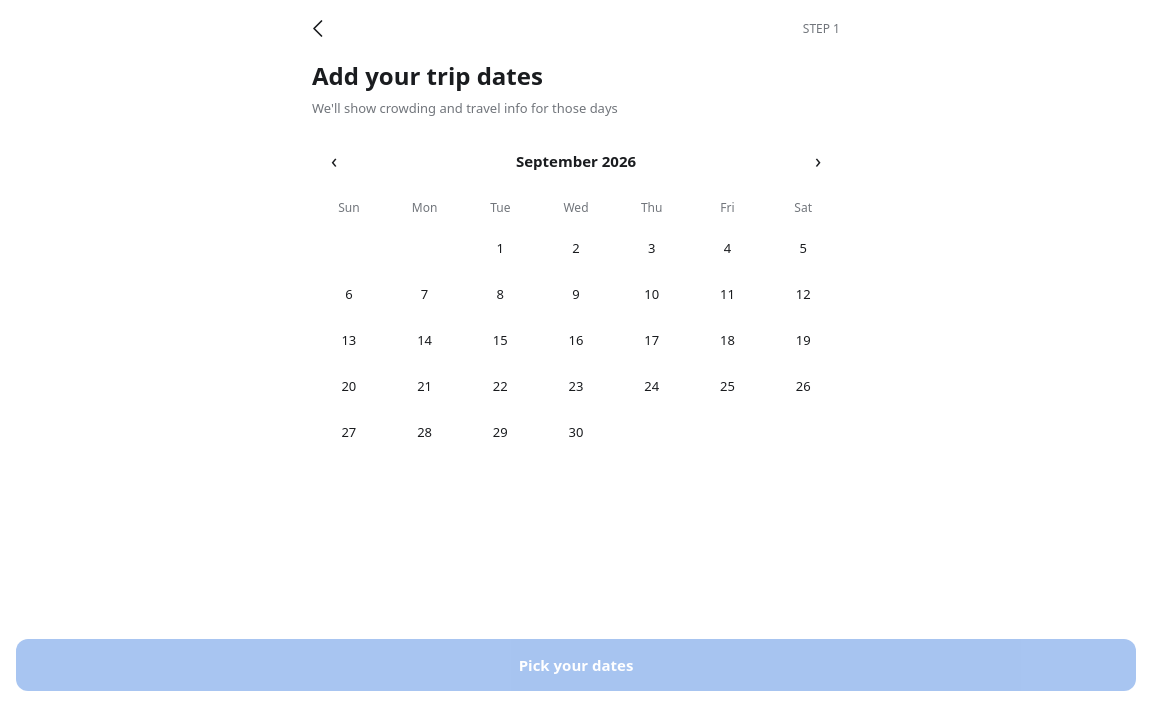
searching for a place keeps the query out of every URL › does not search on an empty field
The image size is (1152, 720).
Click the button "15" at [500, 340], box [463,318,537,362]
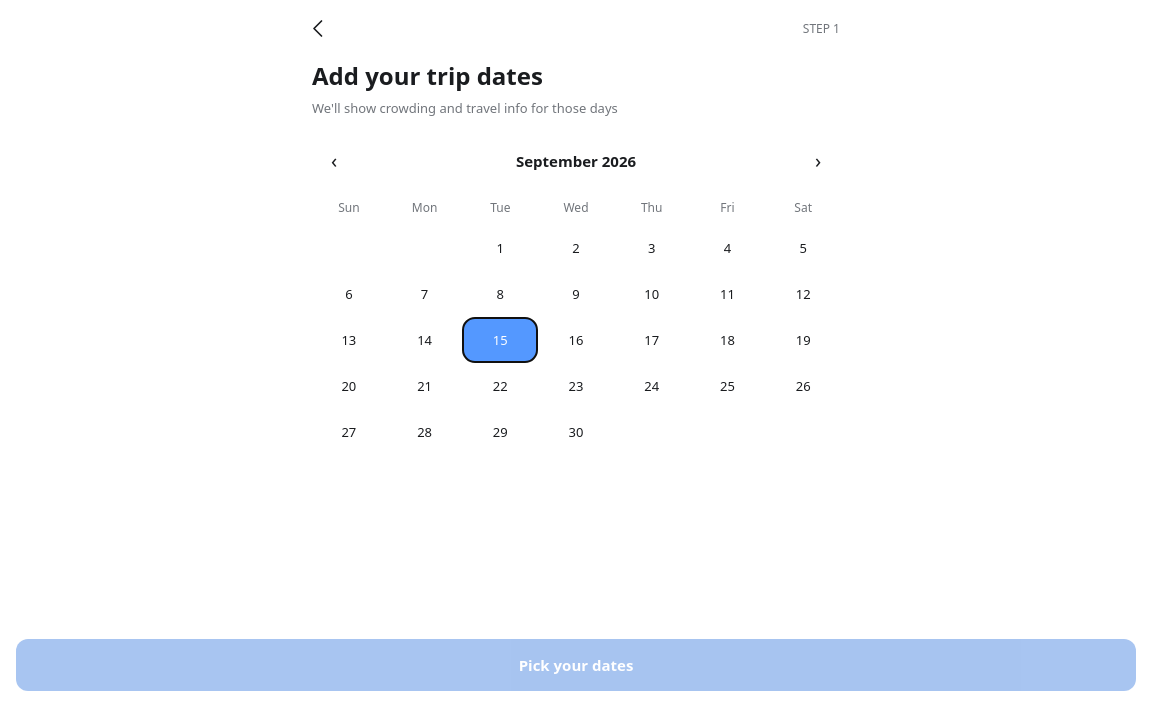
Click the button "15" at [500, 340], box [463,318,537,362]
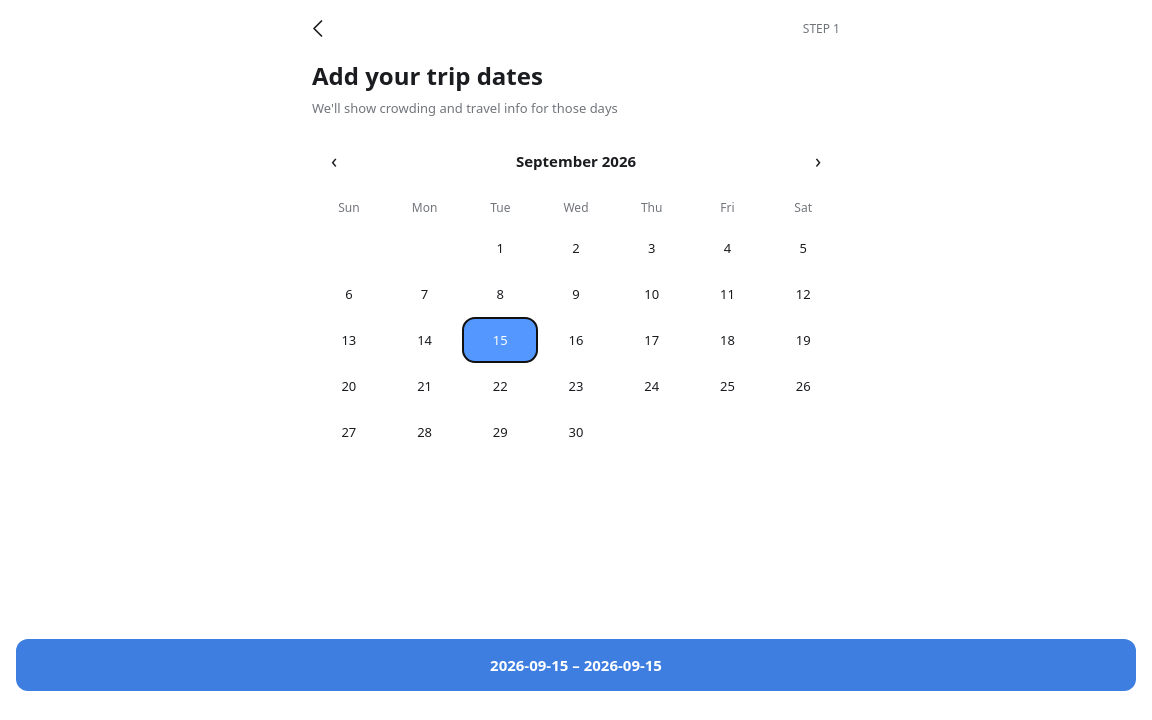
Click the button "2026-09-15 – 2026-09-15" at [576, 665], box [16,639,1136,691]
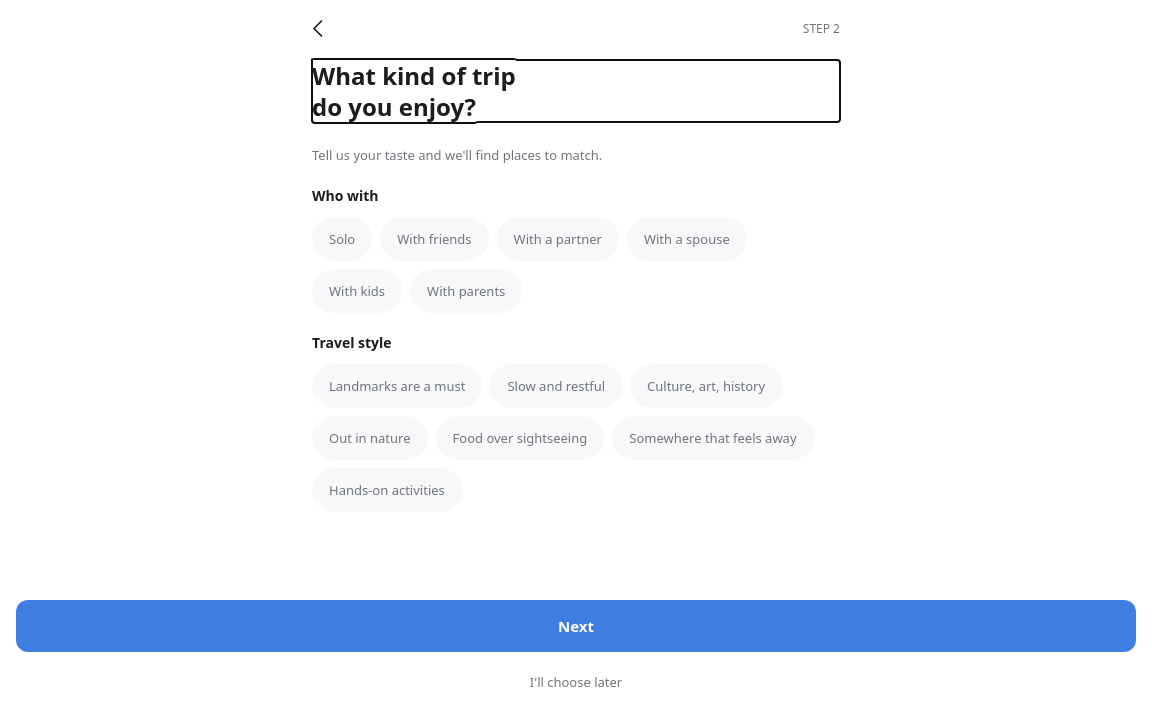
Click the button "Next" at [576, 626], box [16,600,1136,652]
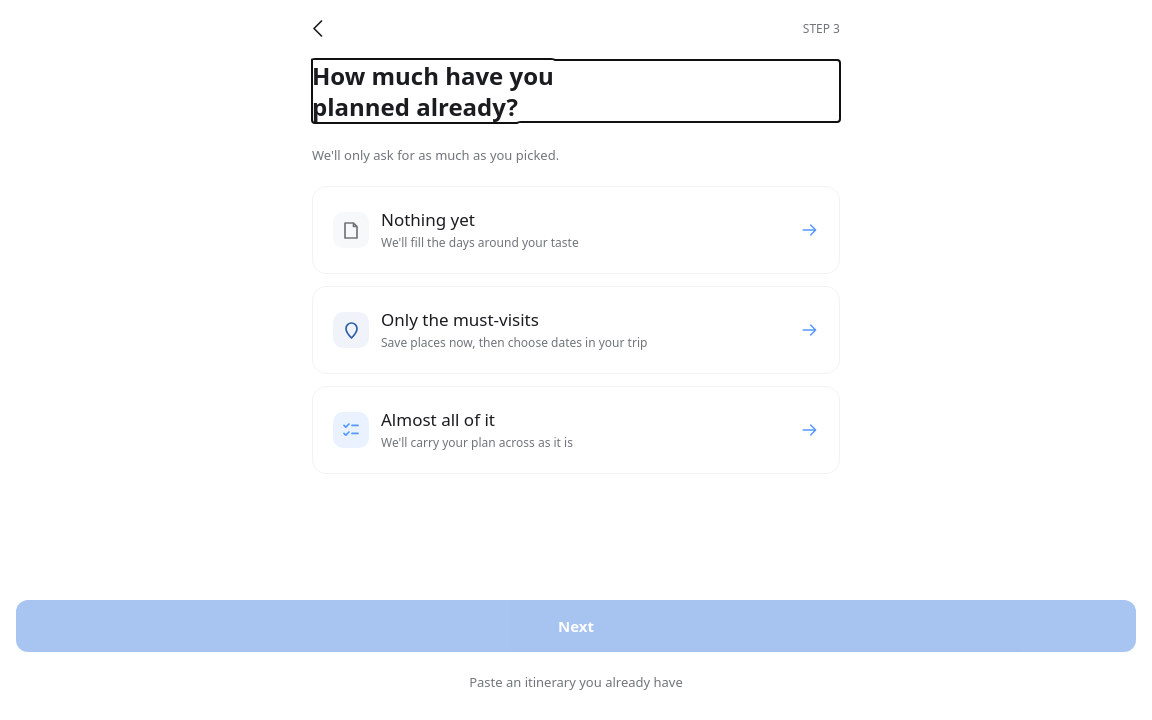
Click the button "Only the must-visits" at [351, 330], box [312,286,840,374]
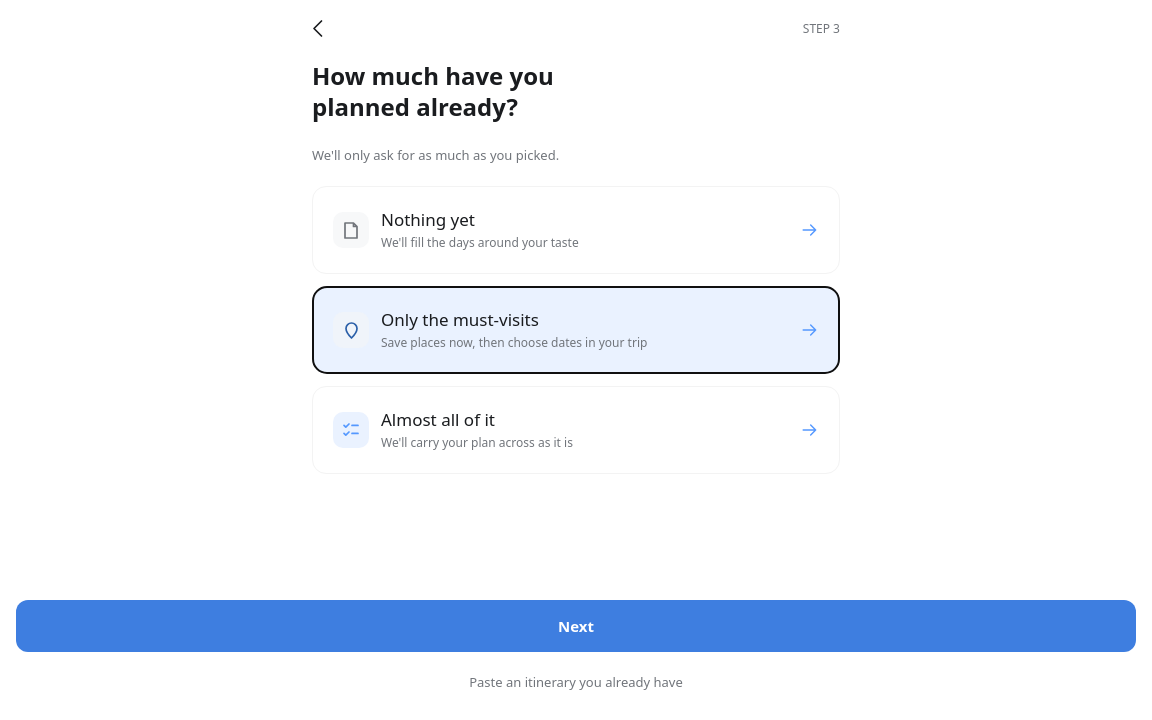
Click the button "Next" at [576, 626], box [16,600,1136,652]
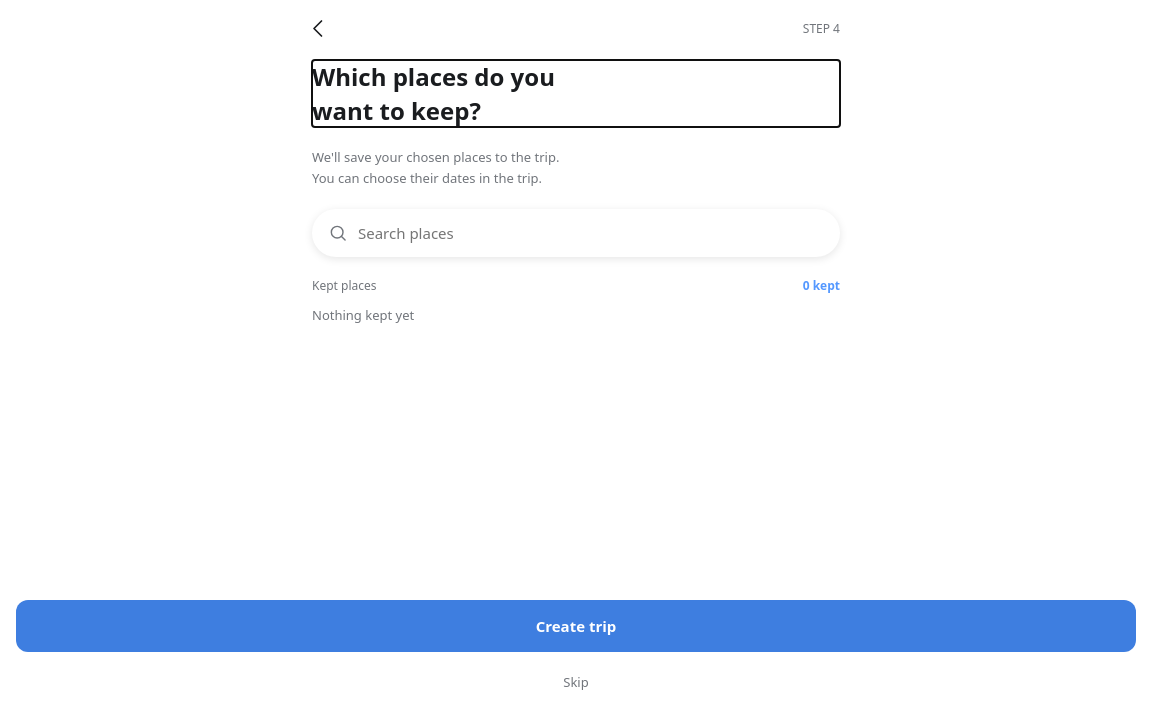
Expected: the search field is shown, [356,209,824,257]
